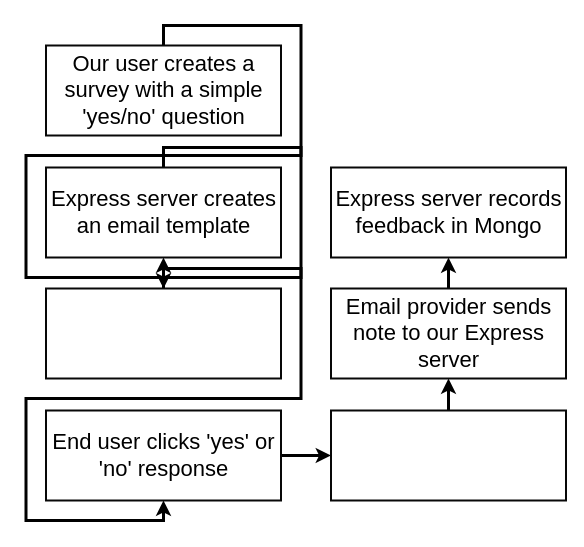
Some shapes in this 584 by 547 pixel diagram are drawn without their labels. The shapes that lost their labels are listed below. From the top down, each one's centre as x and y in pixels, then its label:
[163,333]: Use 3rd party email provider to send email
[448,455]: Email provider notes response
